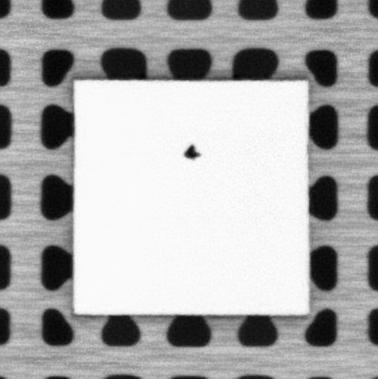DIE_INK: (182, 142, 202, 161)
